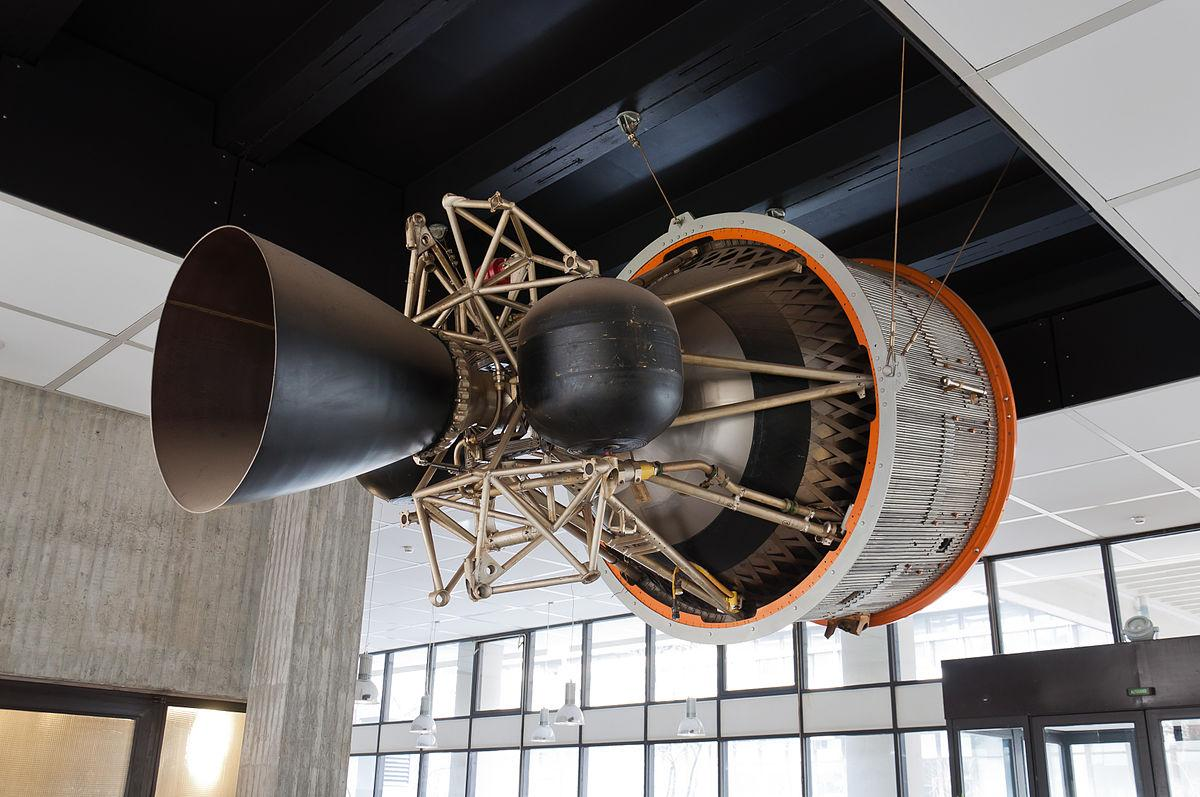thruster: (148, 222, 459, 517)
